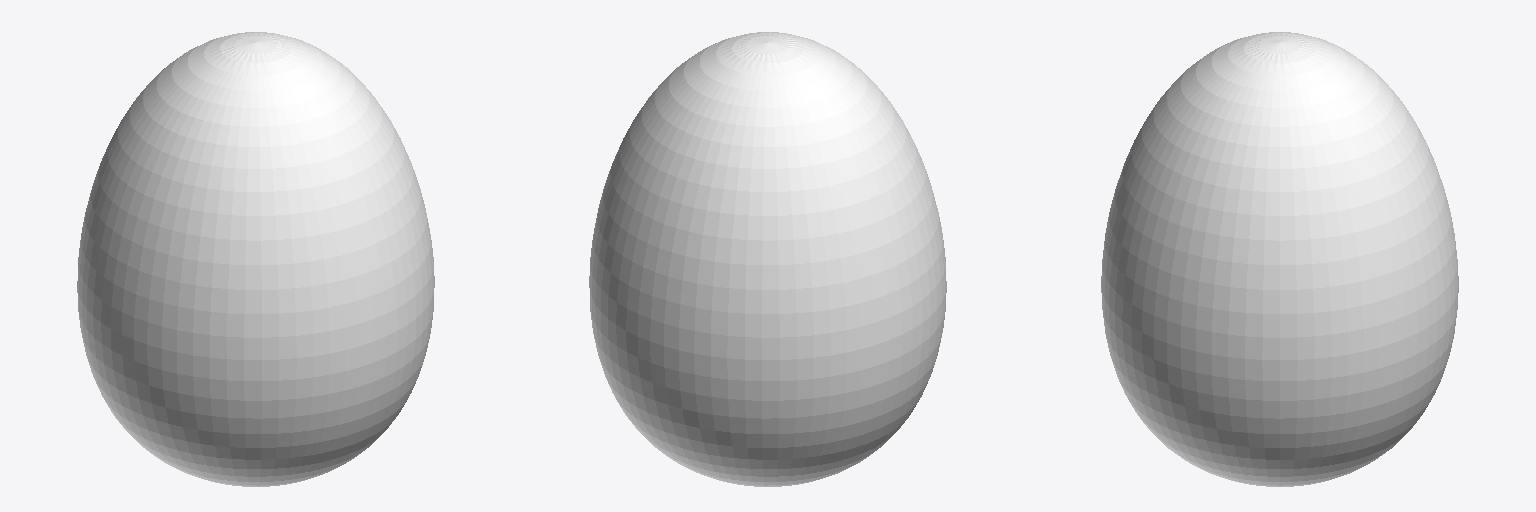
The model's file is egg_free_model.obj.
3 views of the same model, side by side, from view 1: azimuth 30°, elevation 25°; view 2: azimuth 150°, elevation 25°; view 3: azimuth 270°, elevation 25° (orthographic).
Parts seen in each view (by area): view 1: Mesh; view 2: Mesh; view 3: Mesh.
Part boxes in pixels (x1,y1,x2,y2): Mesh: (77,32,434,486); Mesh: (589,32,946,486); Mesh: (1101,32,1458,486).
Bounding box in the file's own units: 46.12 × 60.74 × 46.12.